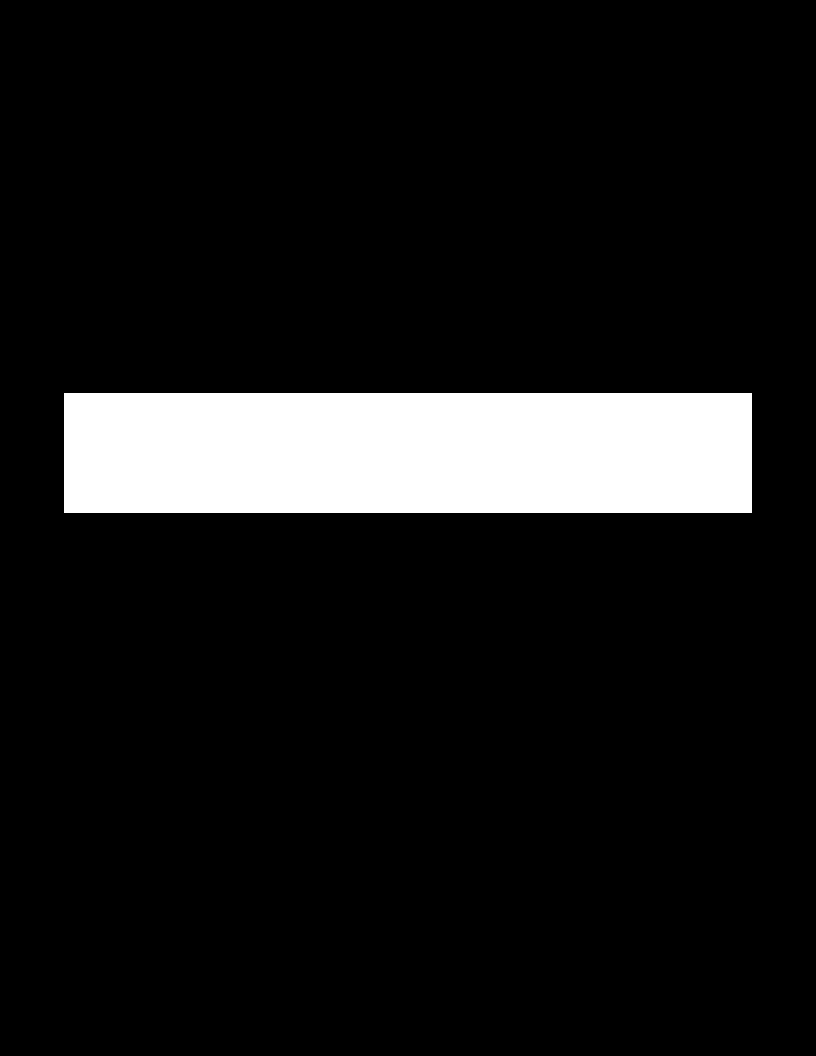table: (64, 393, 751, 512)
